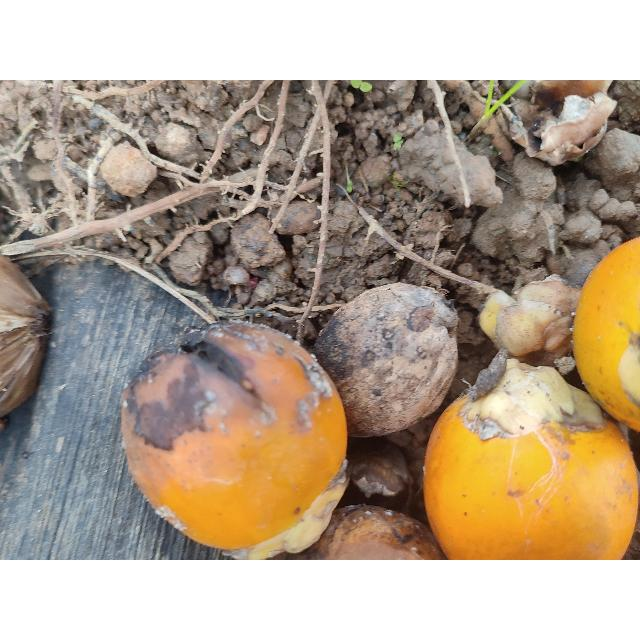damaged: (118, 318, 348, 556), (426, 353, 640, 557), (324, 284, 452, 434), (1, 246, 54, 420), (481, 278, 583, 358)
